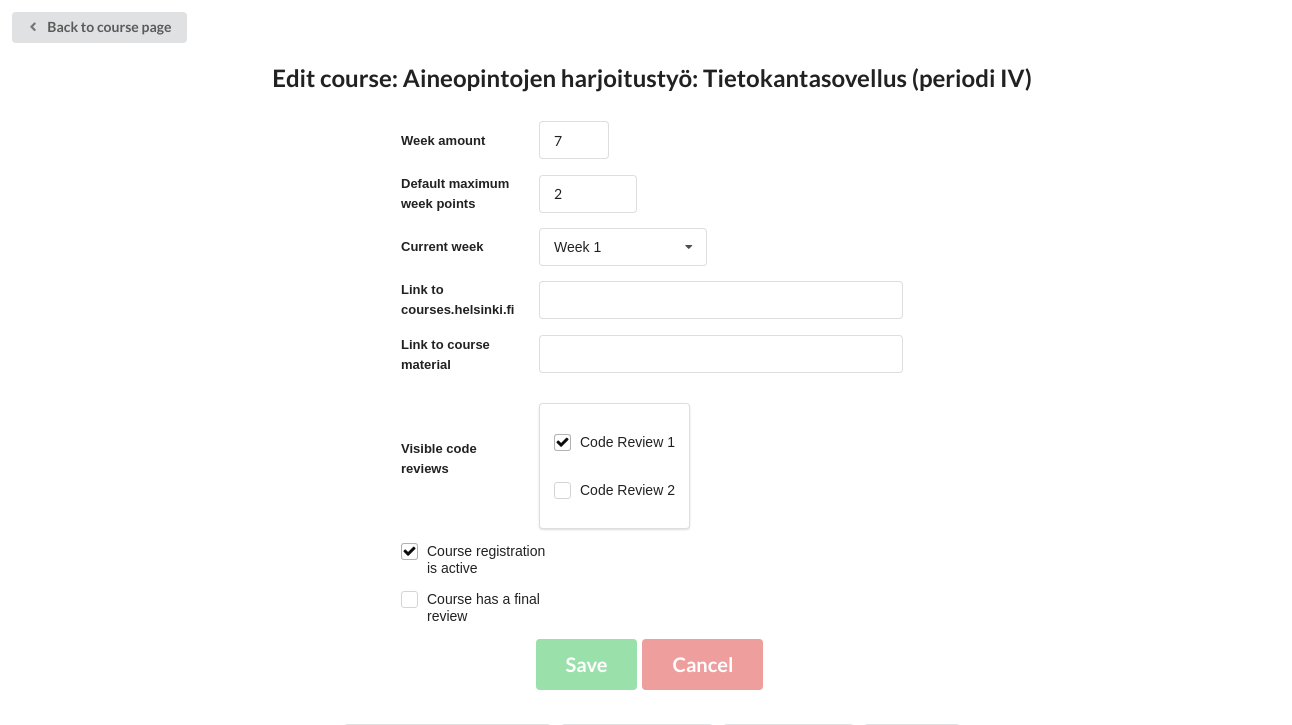
Test: <ModifyCourseInstancePage /> › Save and Cancel › are enabled after changing the visible code reviews
expect the button "Save" is disabled: met, box [536,639,638,690]
Click the 2nd checkbox labelled "Code Review 2".
click(627, 490)  # box [580,482,675,498]
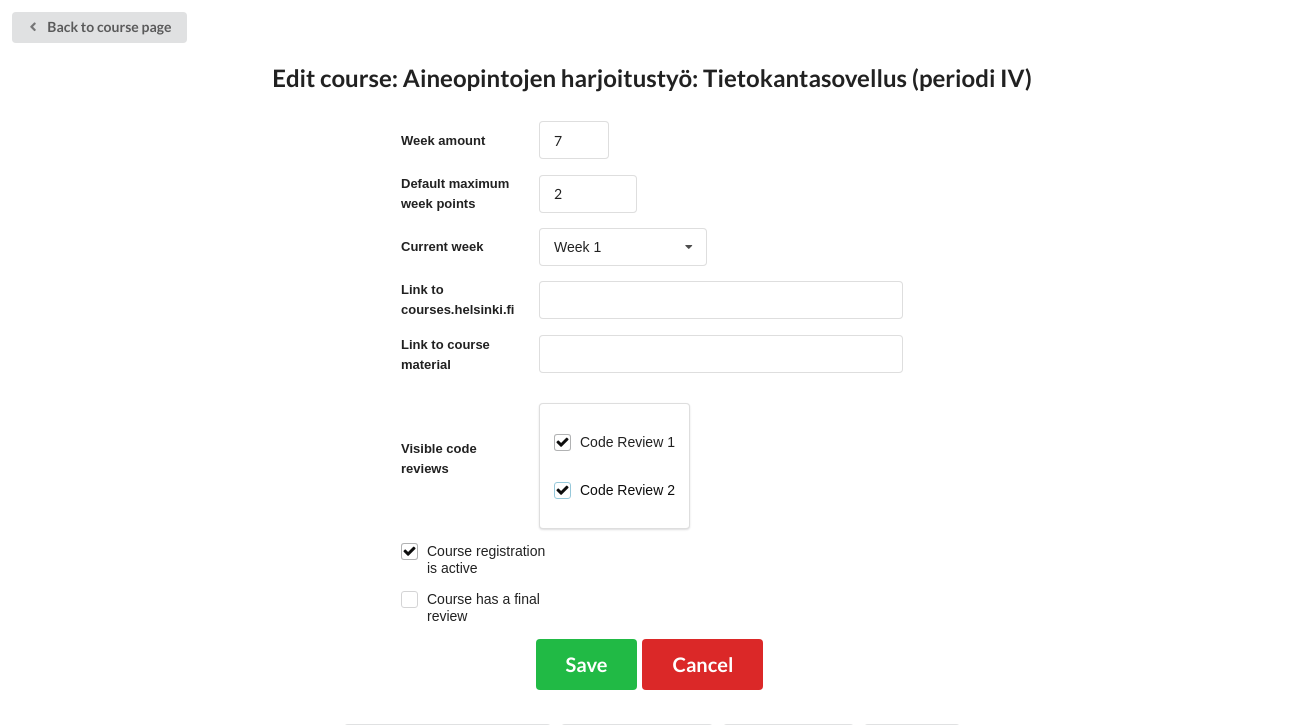
expect the button "Save" is enabled: met, box [536,639,638,690]
